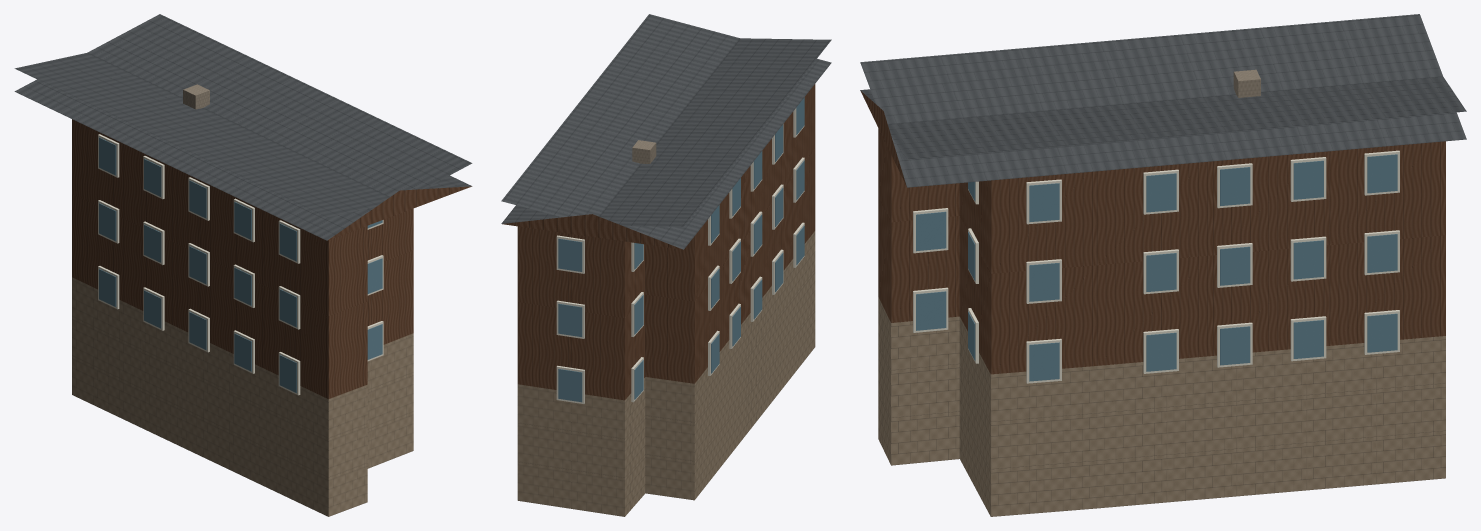
The model's file is core_0138.gltf.
3 views of the same model, side by side, from view 1: azimuth 30°, elevation 25°; view 2: azimuth 150°, elevation 25°; view 3: azimuth 270°, elevation 25° (orthographic). The views are drawn at different scales.
Visible parts, largest first — view 1: core_0138; view 2: core_0138; view 3: core_0138.
Boxes of the visible parts, <box> form: core_0138: <box>14,14,472,516</box>; core_0138: <box>501,14,831,516</box>; core_0138: <box>860,14,1466,516</box>.
Size of the model in its own units: 11.18 by 13.45 by 19.68.
Materials: 6 (6 with a texture image).
